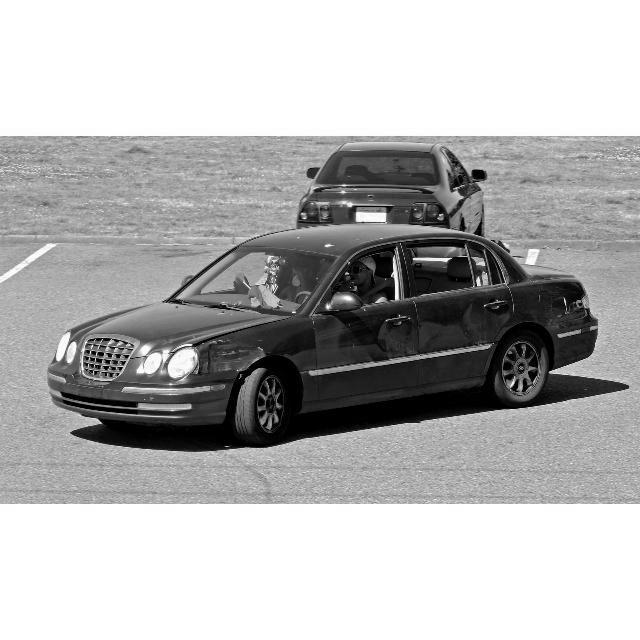doorouter-dent: (313, 306, 415, 402), (411, 297, 507, 391)
fender-dent: (195, 311, 316, 387)
quaterpanel-dent: (509, 276, 606, 358)
